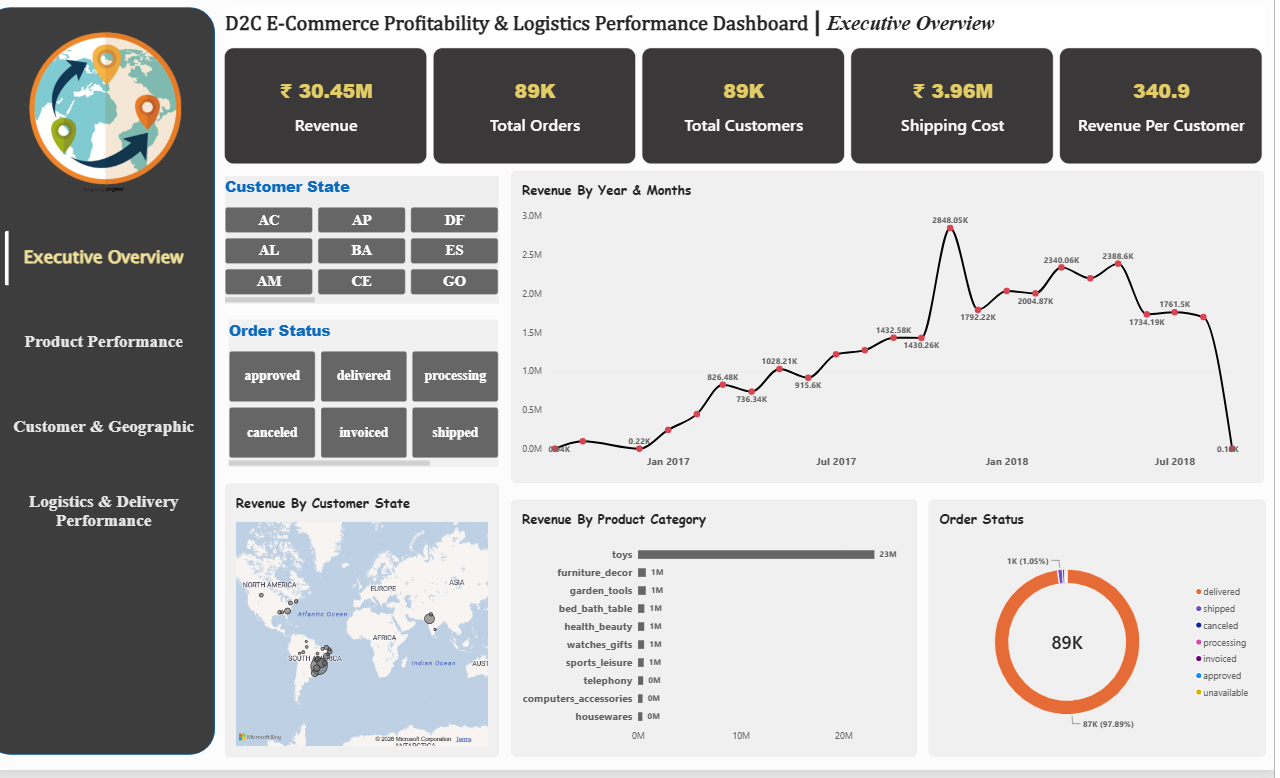

What the dashboard file says about the page in this screenshot:
{"tool":"powerbi","page":{"name":"Executive Overview","canvas":[2000,1200],"ordinal":0},"visuals":[{"type":"cardVisual","fields":{"Data":["df_Customers.Revenue","df_Customers.Total Orders","df_Customers.Total Customers","df_Customers.Shipping Cost","df_Customers.Revenue Per Customer"]},"box":[370.9,79.3,1614.5,182.2],"z":0},{"type":"shape","box":[0,17.5,356.9,1159.8],"z":1000},{"type":"barChart","title":"Revenue By Product Category","fields":{"Y":["df_Customers.Revenue"],"Category":["df_Products.product_category_name"]},"box":[817,782.1,629.6,398.7],"z":2000},{"type":"lineChart","title":"Revenue By Year & Months","fields":{"Y":["df_Customers.Revenue"],"Category":["df_Orders.order_purchase_timestamp.Variation.Date Hierarchy.Year","df_Orders.order_purchase_timestamp.Variation.Date Hierarchy.Month"]},"box":[817,272.3,1167.8,483.7],"z":3000},{"type":"donutChart","title":"Order Status","fields":{"Category":["df_Orders.order_status"],"Y":["df_OrderItems.count of order_id"]},"box":[1464.1,782.1,522.9,398.7],"z":4000},{"type":"map","title":"Revenue By Customer State","fields":{"Category":["df_Customers.customer_state"],"Size":["df_Customers.Revenue"]},"box":[372.5,756,424.8,424.8],"z":5000},{"type":"advancedSlicerVisual","title":"Customer State","fields":{"Values":["df_Customers.customer_state"]},"box":[372.5,278.9,424.8,198.3],"z":6000},{"type":"advancedSlicerVisual","title":"Order Status","fields":{"Values":["df_Orders.order_status"]},"box":[379.1,503.3,418.3,228.8],"z":7000},{"type":"textbox","box":[371.9,17.8,1614.7,62.4],"z":8000},{"type":"image","box":[33,36.9,300.6,275.4],"z":9000},{"type":"pageNavigator","box":[11.6,345.2,345.2,519.8],"z":9001}]}

Visuals, with their boxes in screenshot pixels (x1, y1, x2, y2), scaled from the page's 2000x1200 canvas onto the 1280x778 screenshot:
cardVisual - df_Customers.Revenue x df_Customers.Total Orders: (237, 51, 1271, 170)
shape: (0, 11, 228, 763)
"Revenue By Product Category" barChart: (523, 507, 926, 766)
"Revenue By Year & Months" lineChart: (523, 177, 1270, 490)
"Order Status" donutChart: (937, 507, 1272, 766)
"Revenue By Customer State" map: (238, 490, 510, 766)
"Customer State" advancedSlicerVisual: (238, 181, 510, 309)
"Order Status" advancedSlicerVisual: (243, 326, 510, 475)
textbox: (238, 12, 1271, 52)
image: (21, 24, 214, 202)
pageNavigator: (7, 224, 228, 561)
